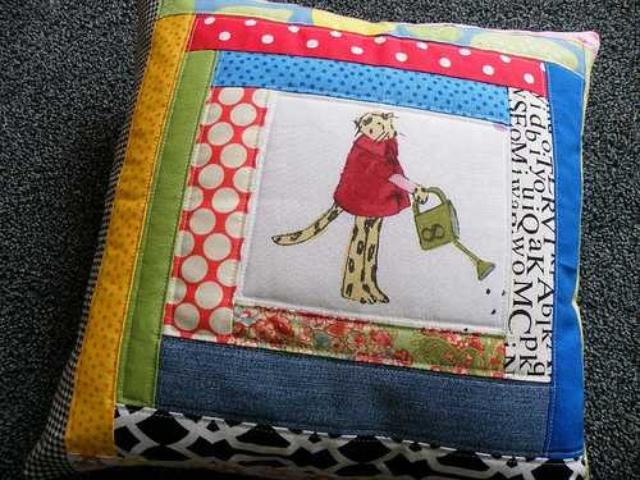pillow: (64, 0, 600, 474)
